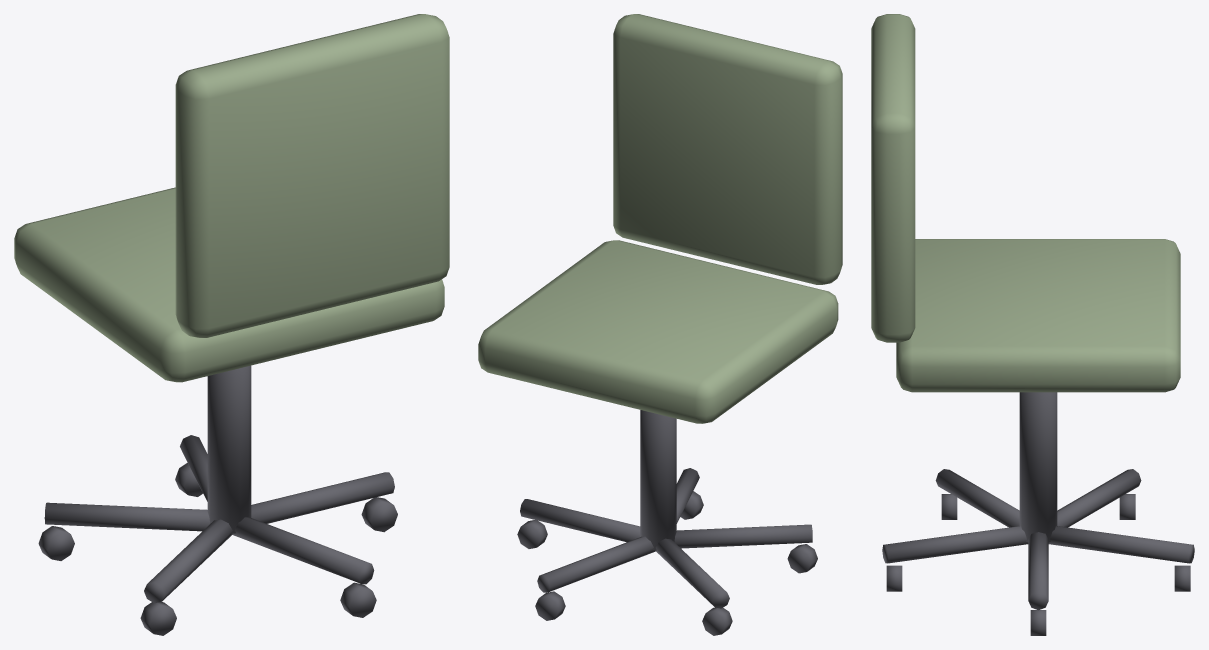
The model's file is Modular_Chair.fbx.
3 renders of one model, left to right at view 1: azimuth 30°, elevation 25°; view 2: azimuth 150°, elevation 25°; view 3: azimuth 270°, elevation 25°, orthographic. The views are drawn at different scales.
Visible parts, largest first — view 1: Modular_Chair; view 2: Modular_Chair; view 3: Modular_Chair.
Part boxes in pixels (box(x1,y1,x2,y2)): Modular_Chair: box(14, 14, 449, 635); Modular_Chair: box(478, 14, 842, 635); Modular_Chair: box(871, 14, 1194, 635).
Bounding box in the file's own units: 48.7 × 88.7 × 51.25.
